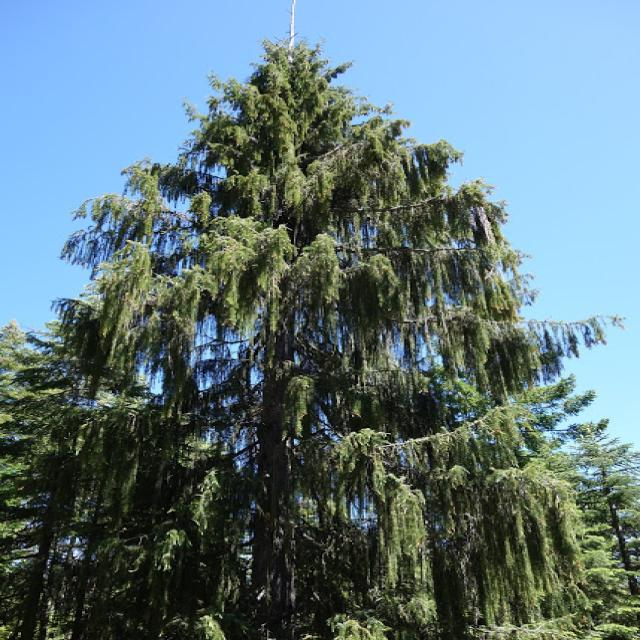Picea breweriana: (73, 10, 588, 640)
